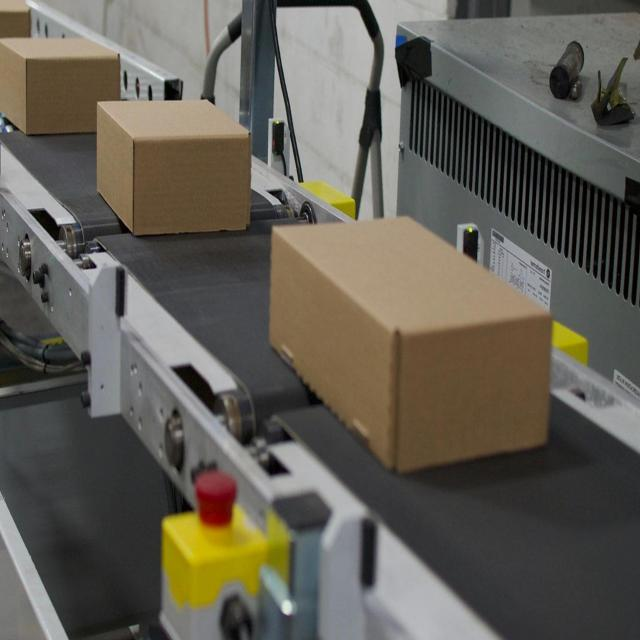food: (267, 214, 555, 475), (95, 96, 253, 237), (1, 33, 121, 137)
